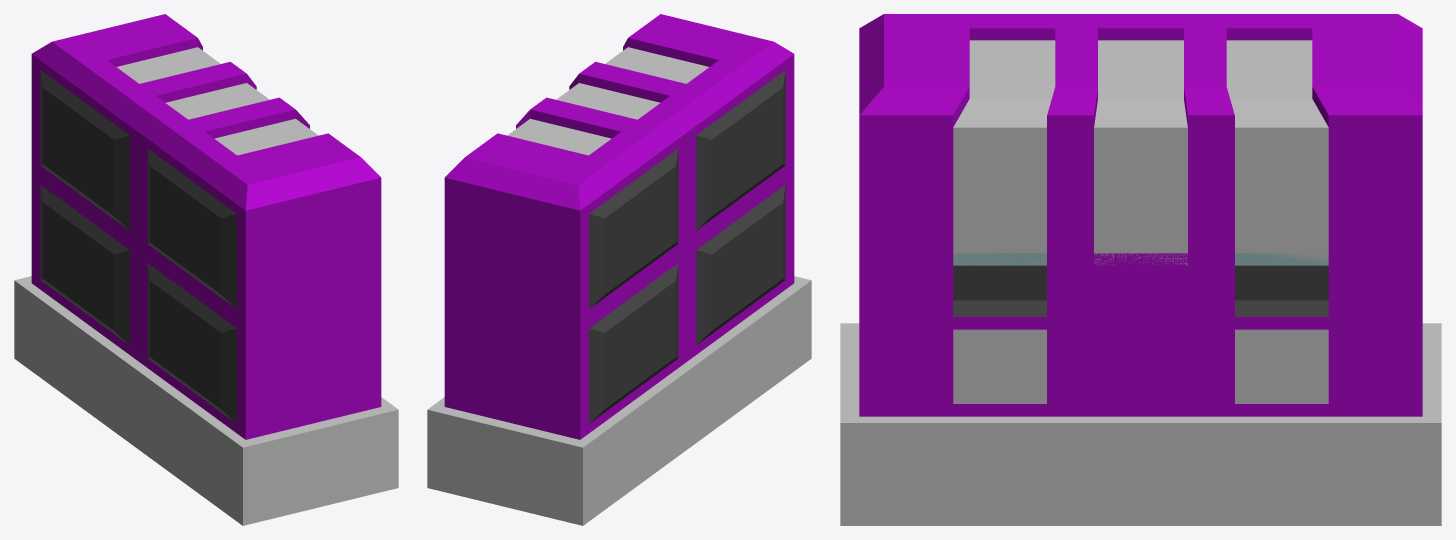
Rendered from Speaker_2.fbx.
The picture shows the model from 3 angles, left to right: view 1: azimuth 30°, elevation 25°; view 2: azimuth 150°, elevation 25°; view 3: azimuth 270°, elevation 25°; orthographic projection. The views are drawn at different scales.
Parts seen in each view (by area): view 1: Cube.009, Cube.015; view 2: Cube.009, Cube.015; view 3: Cube.009, Cube.015.
Boxes of the visible parts, x1,y1,x2,y2 form: Cube.009: (14,14,398,525); Cube.015: (117,47,318,155); Cube.009: (427,14,811,525); Cube.015: (507,47,708,155); Cube.009: (840,14,1441,525); Cube.015: (953,40,1328,265).
Bounding box in the file's own units: 137 × 273 × 349.
